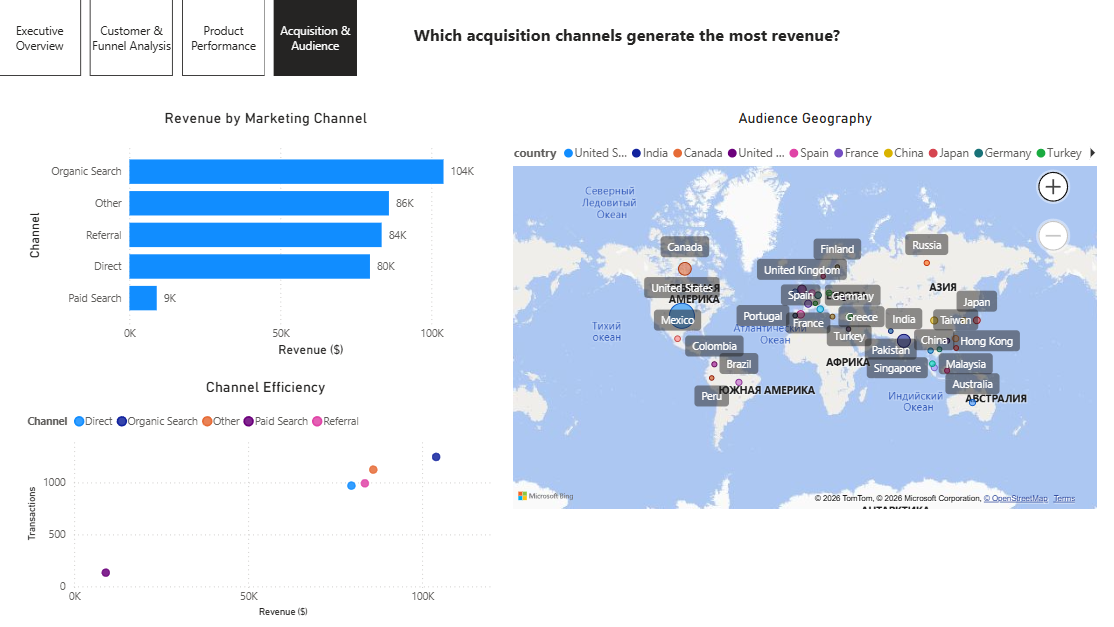

The dashboard page shown, as its layout file describes it:
{"tool":"powerbi","page":{"name":"Acquisition & Audience","canvas":[1280,720],"ordinal":3},"visuals":[{"type":"textbox","box":[470,22.9,560,52.9],"z":0},{"type":"clusteredBarChart","title":"Revenue by Marketing Channel","fields":{"Category":["marketing_channels.channel"],"Y":["Sum(marketing_channels.revenue)"]},"box":[28.3,125,555,288.3],"z":1000},{"type":"scatterChart","title":"Channel Efficiency","fields":{"X":["Sum(marketing_channels.revenue)"],"Y":["marketing_channels.transactions"],"Series":["marketing_channels.channel"]},"box":[28.3,433.3,555,278.3],"z":2000},{"type":"map","title":"Audience Geography","fields":{"Category":["revenue_by_country.country"],"Size":["Sum(revenue_by_country.revenue)"],"Series":["revenue_by_country.country"]},"box":[584.3,125.7,676.7,461.7],"z":3000},{"type":"pageNavigator","box":[0,0,411.7,88.3],"z":3001}]}

Visuals, with their boxes in screenshot pixels (x1, y1, x2, y2), scaled from the page's 1280x720 canvas onto the 1114x627 screenshot:
textbox: [409, 20, 896, 66]
"Revenue by Marketing Channel" clusteredBarChart: [25, 109, 508, 360]
"Channel Efficiency" scatterChart: [25, 377, 508, 620]
"Audience Geography" map: [509, 109, 1097, 512]
pageNavigator: [0, 0, 358, 77]
